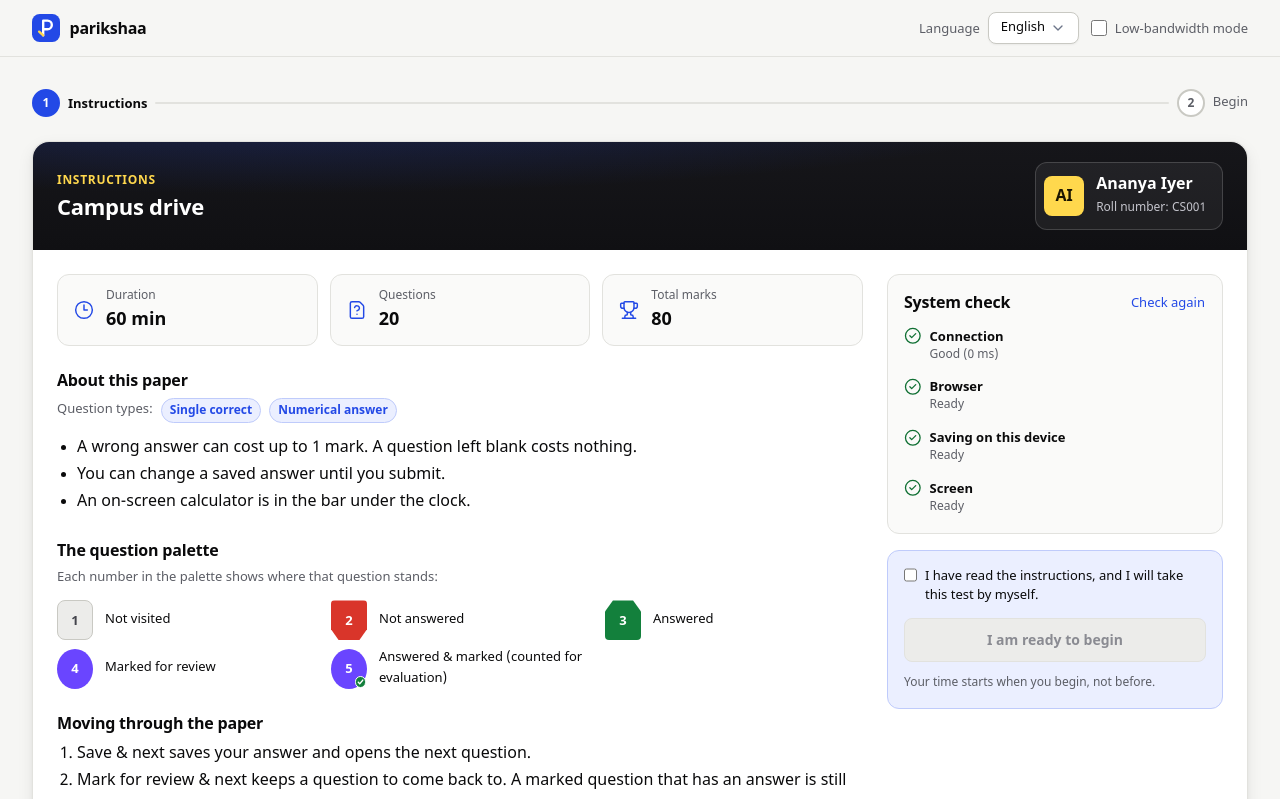
an invitation link › shows the instructions and a system check first, and starts the clock only at Ready to begin
expect the list items read "1Instructions", "2Begin", in this order: met, box [32,89,148,117]; [1177,89,1248,117]
expect the element "Campus drive" shows "Ananya Iyer": met, box [1096,172,1193,194]
Step 1. Click the checkbox labelled "I have read the instructions" → [910, 574], box [904,566,917,582]
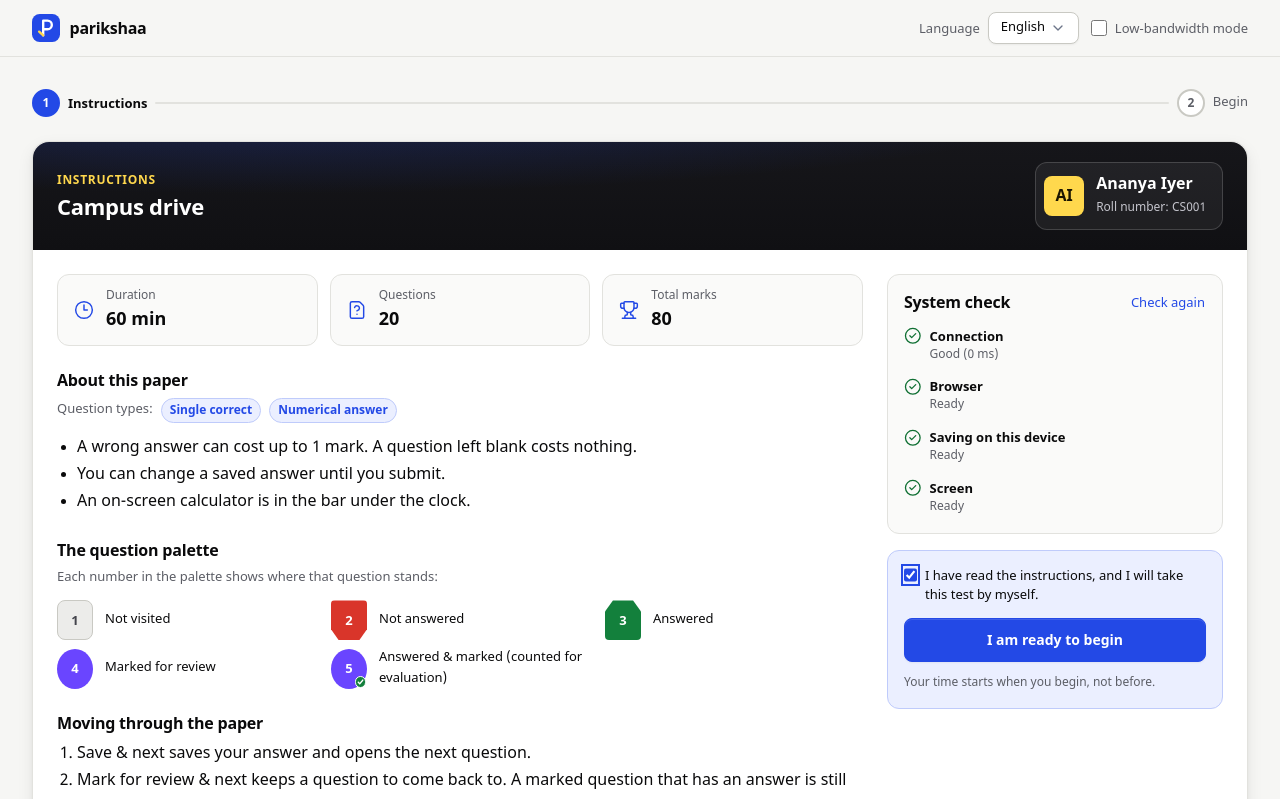
Step 2. Click the button "I am ready to begin" → [1055, 640], box [904,618,1206,662]
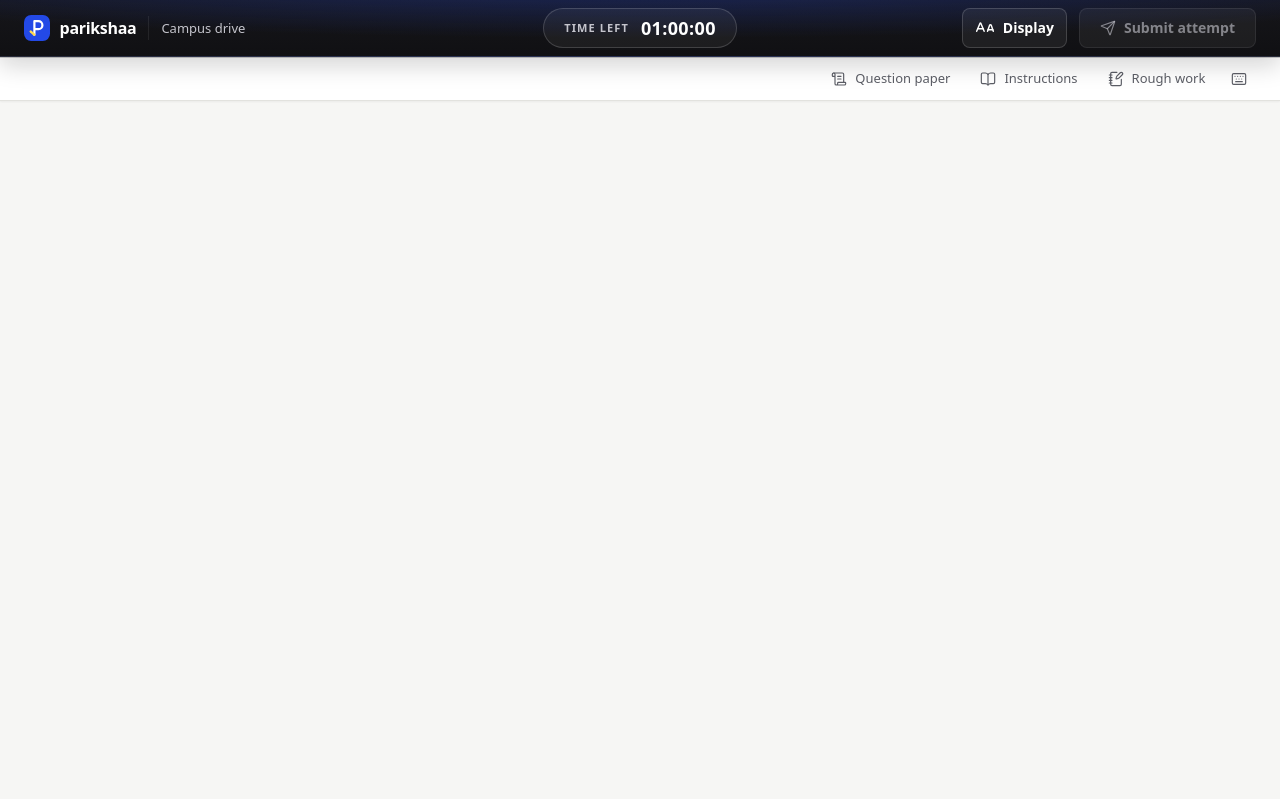
expect the element showing "Time left 01:00:00" is shown: met, box [543,8,737,48]
